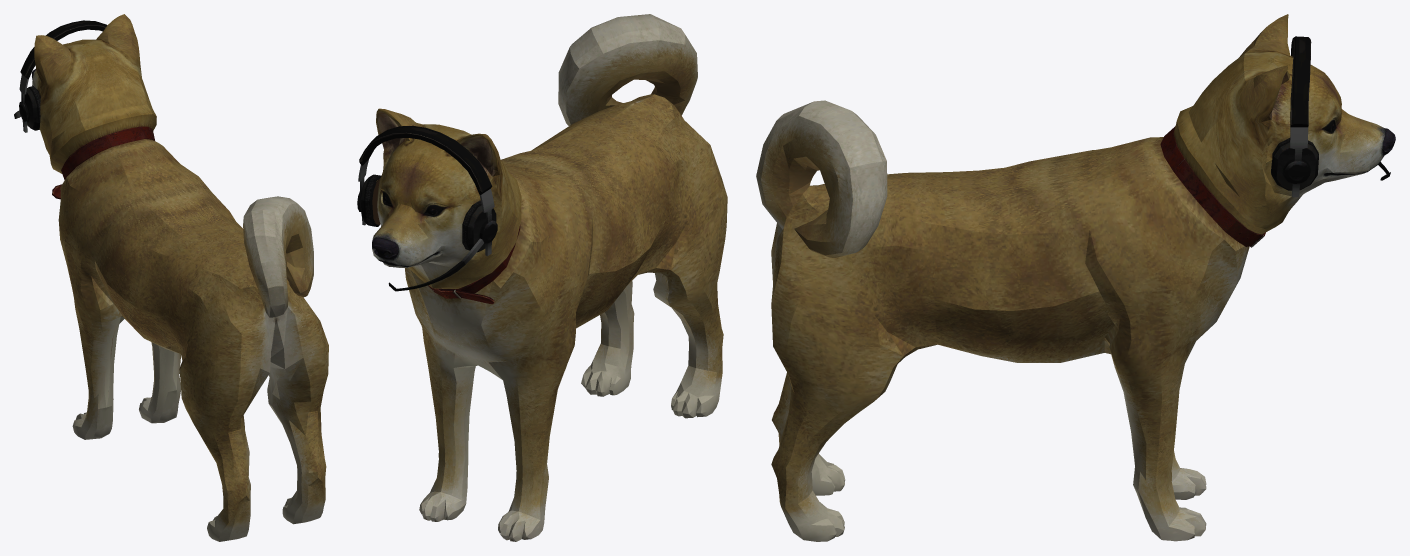
The model's file is mira.fbx.
3 views of the same model, side by side, from view 1: azimuth 30°, elevation 25°; view 2: azimuth 150°, elevation 25°; view 3: azimuth 270°, elevation 25° (orthographic). The views are drawn at different scales.
Visible parts, largest first — view 1: Default; view 2: Default; view 3: Default.
Part boxes in pixels (x1=…): Default: x1=14, y1=14, x2=328, y2=541; Default: x1=357, y1=14, x2=727, y2=541; Default: x1=756, y1=14, x2=1395, y2=541.
Size of the model in its own units: 0.2771 by 0.756 by 0.9293.
Materials: 2 (2 with a texture image).
